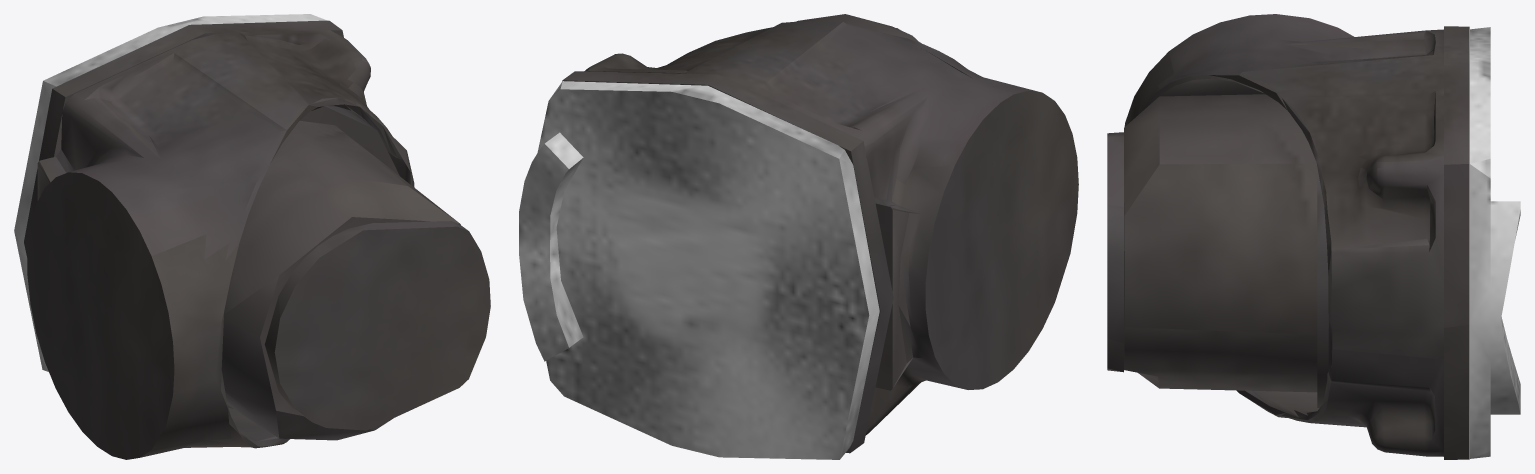
File: fl_hip.dae
The picture shows the model from 3 angles, left to right: view 1: azimuth 30°, elevation 25°; view 2: azimuth 150°, elevation 25°; view 3: azimuth 270°, elevation 25°; orthographic projection. The views are drawn at different scales.
Parts seen in each view (by area): view 1: fl_hip; view 2: fl_hip; view 3: fl_hip.
Part boxes in pixels (left/top/right/bottom): fl_hip: left=14, top=14, right=490, bottom=459; fl_hip: left=519, top=14, right=1078, bottom=459; fl_hip: left=1107, top=14, right=1520, bottom=459.
Bounding box in the file's own units: 0.1013 × 0.1003 × 0.0956.
1 material, 1 textured.
